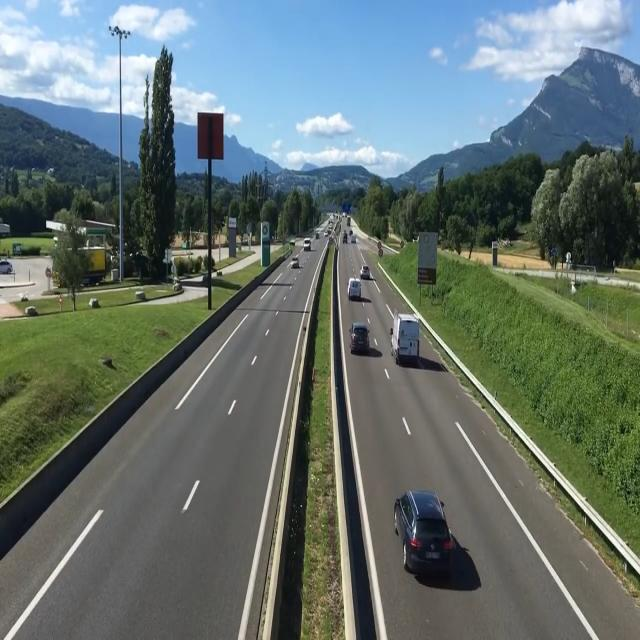car: (392, 490, 474, 597), (392, 310, 423, 372), (351, 318, 373, 357), (348, 270, 367, 304)
